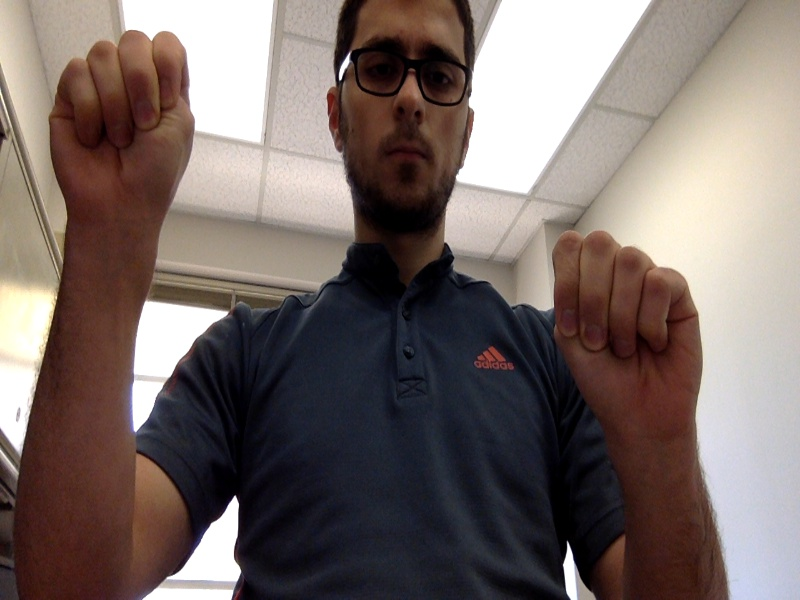0-hand: (553, 229, 701, 435), (48, 29, 195, 230)
